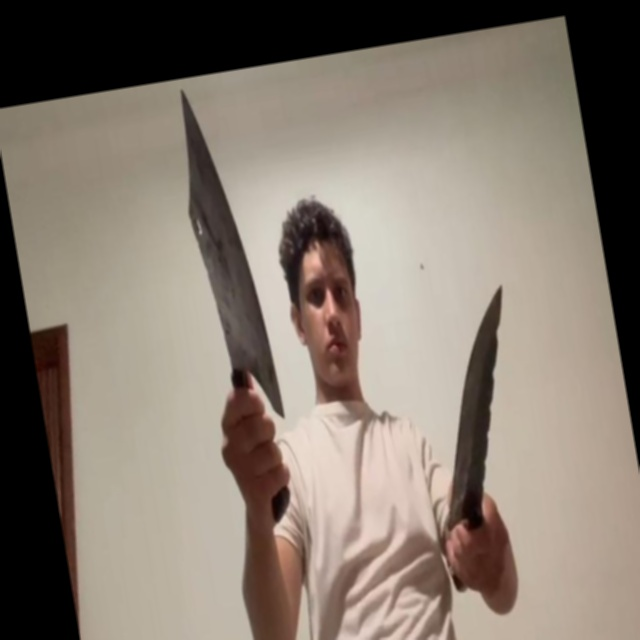Sharp-Object: (165, 82, 285, 430), (414, 285, 539, 528)
